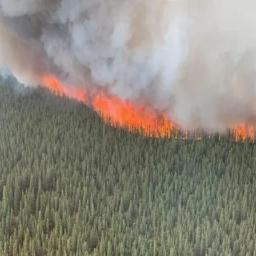Heavy smoke: (0, 0, 256, 77)
Medium fire: (40, 75, 256, 143)
